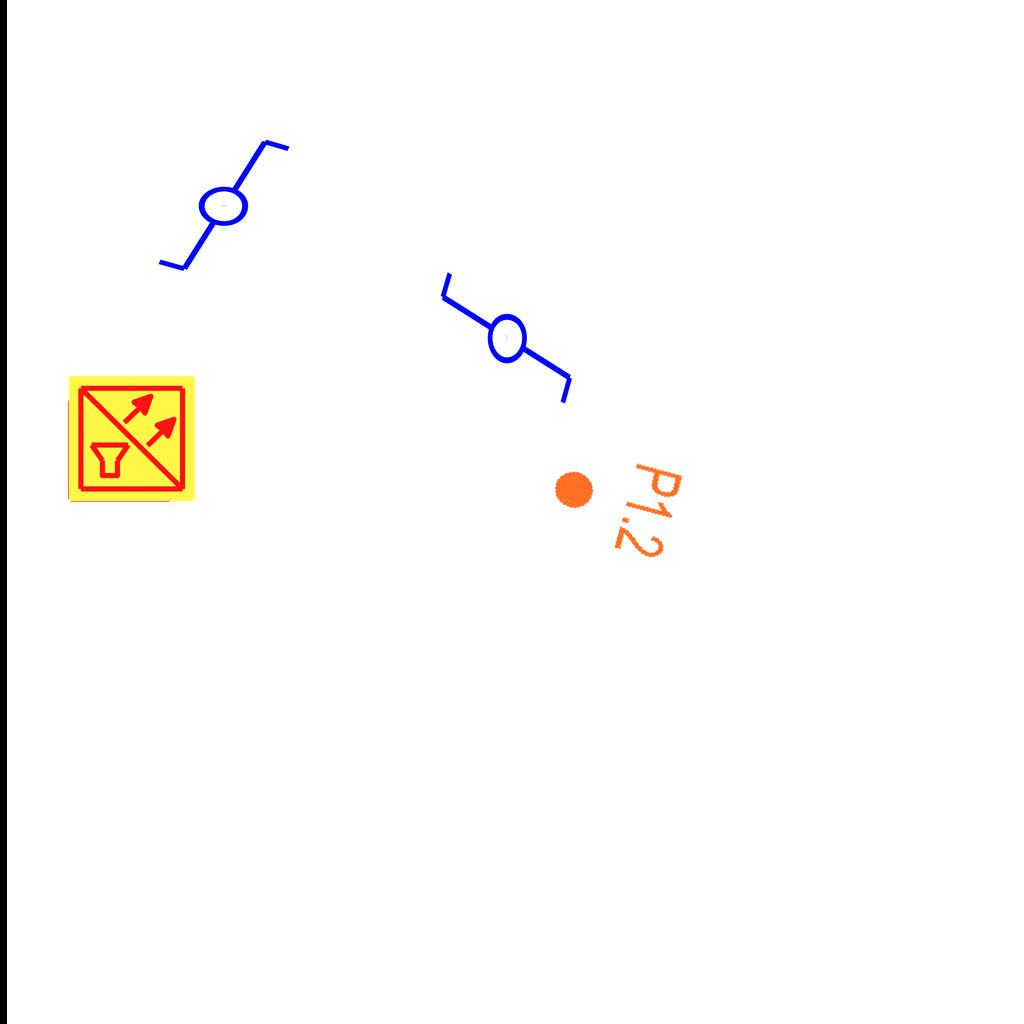Downlight_LED_Einbauleuchten_Flur: (539, 440, 688, 564)
OKW_Multisensormelder_(Kombination_optischer_Rauch-Kahlenmonoxid_Waerme-Melder): (66, 373, 198, 505)
Wechselschalter: (433, 268, 577, 425), (137, 132, 294, 276)
